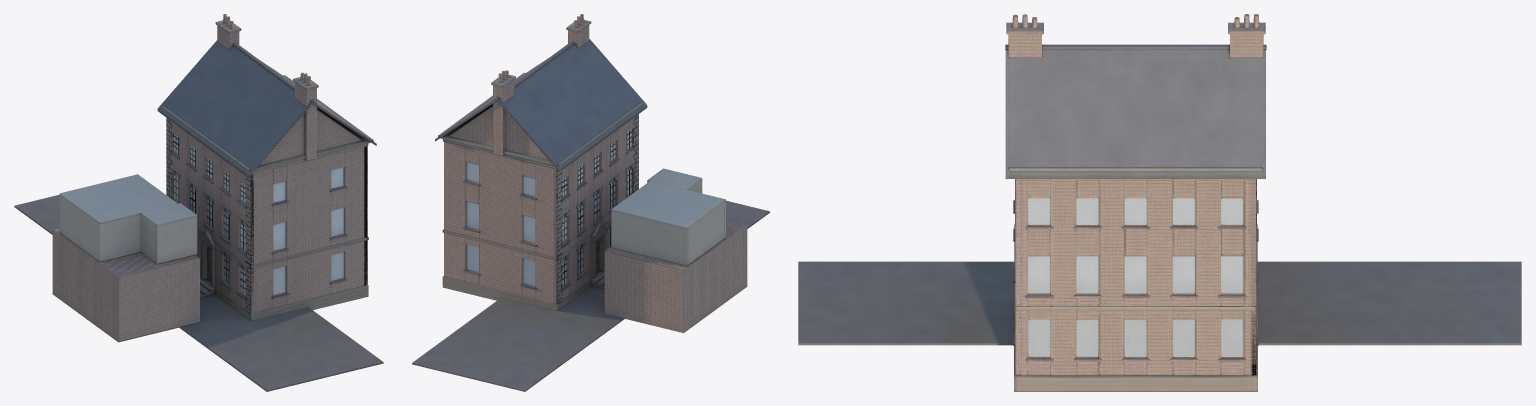
Rendered from room.gltf.
3 renders of one model, left to right at view 1: azimuth 30°, elevation 25°; view 2: azimuth 150°, elevation 25°; view 3: azimuth 270°, elevation 25°, orthographic. The views are drawn at different scales.
Parts seen in each view (by area): view 1: MESH_house_opp, MESH_slate, MESH_street, MESH_trim, MESH_wall, MESH_ceiling, MESH_glass; view 2: MESH_house_opp, MESH_street, MESH_slate, MESH_trim, MESH_wall, MESH_ceiling, MESH_glass; view 3: MESH_street, MESH_house_opp, MESH_slate, MESH_glass, MESH_trim.
Boxes of the visible parts, x1,y1,x2,y2 form: MESH_house_opp: [52, 14, 367, 342]; MESH_slate: [157, 40, 376, 177]; MESH_street: [14, 194, 383, 391]; MESH_trim: [160, 20, 373, 320]; MESH_wall: [59, 195, 197, 263]; MESH_ceiling: [59, 174, 197, 225]; MESH_glass: [173, 134, 343, 295]; MESH_house_opp: [444, 14, 747, 332]; MESH_street: [412, 200, 769, 391]; MESH_slate: [435, 39, 647, 171]; MESH_trim: [438, 19, 644, 310]; MESH_wall: [611, 179, 725, 265]; MESH_ceiling: [611, 168, 725, 228]; MESH_glass: [466, 129, 631, 286]; MESH_street: [798, 261, 1521, 345]; MESH_house_opp: [1008, 14, 1263, 375]; MESH_slate: [1005, 44, 1266, 178]; MESH_glass: [1028, 198, 1243, 356]; MESH_trim: [1006, 22, 1265, 391].
Size of what is drawn, in the model's own units: 16.8 by 15.38 by 30.
Materials: 37 (37 with a texture image).
